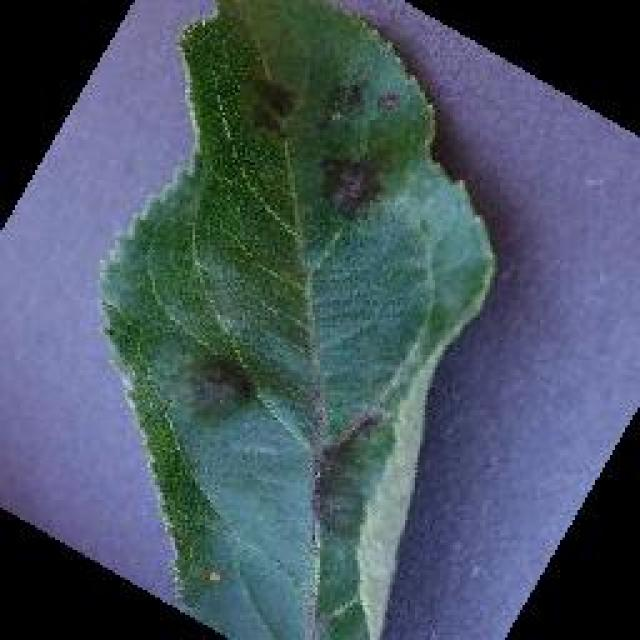apple scab disease: (95, 0, 497, 638)
